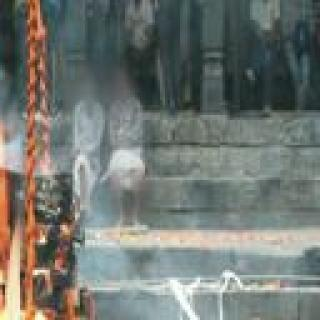fire: (0, 108, 25, 320)
